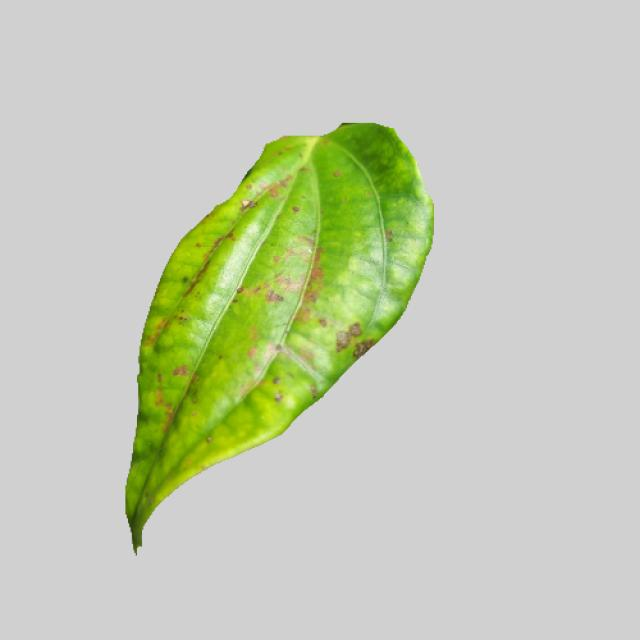yellow-mottle-virus: (104, 119, 432, 554)
